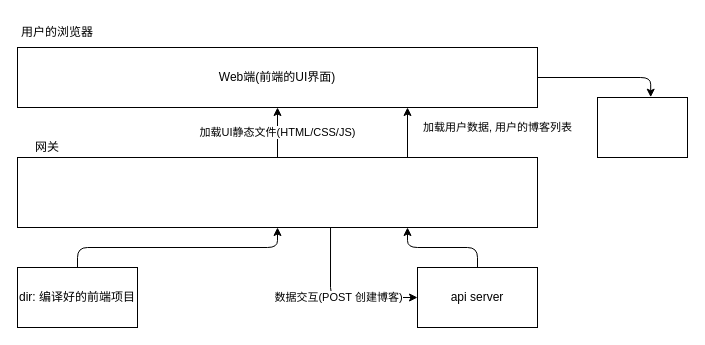
Image size: 705x345. Some labels were removed from this diagram. The shapes that lost their labels are listed below. From the top down, each one's box as (x1, y1, x2, y2) in pixels, then its label:
(596, 96, 688, 158): CDN
(16, 156, 538, 228): Nginx
